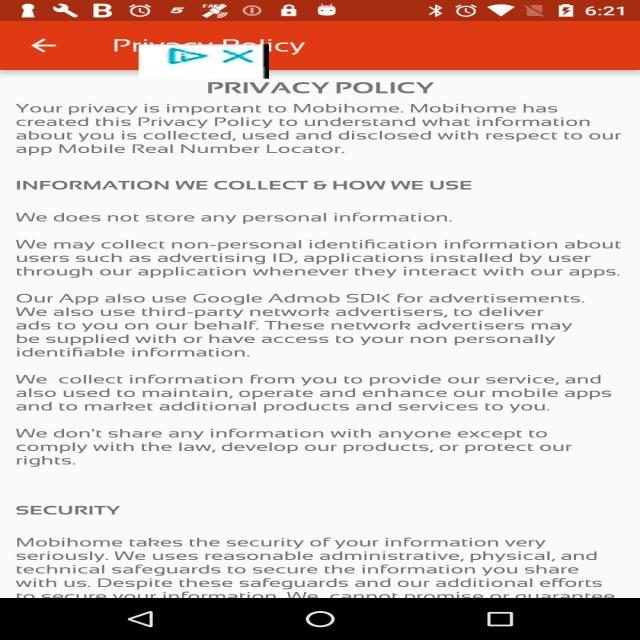sneaking: (139, 44, 269, 79)
